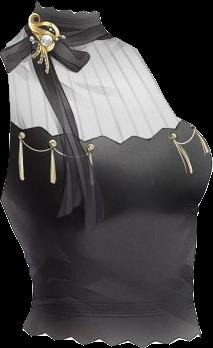Bodice: (0, 1, 211, 347)
Neckline: (8, 1, 182, 145)
Waistline: (20, 326, 203, 347)
